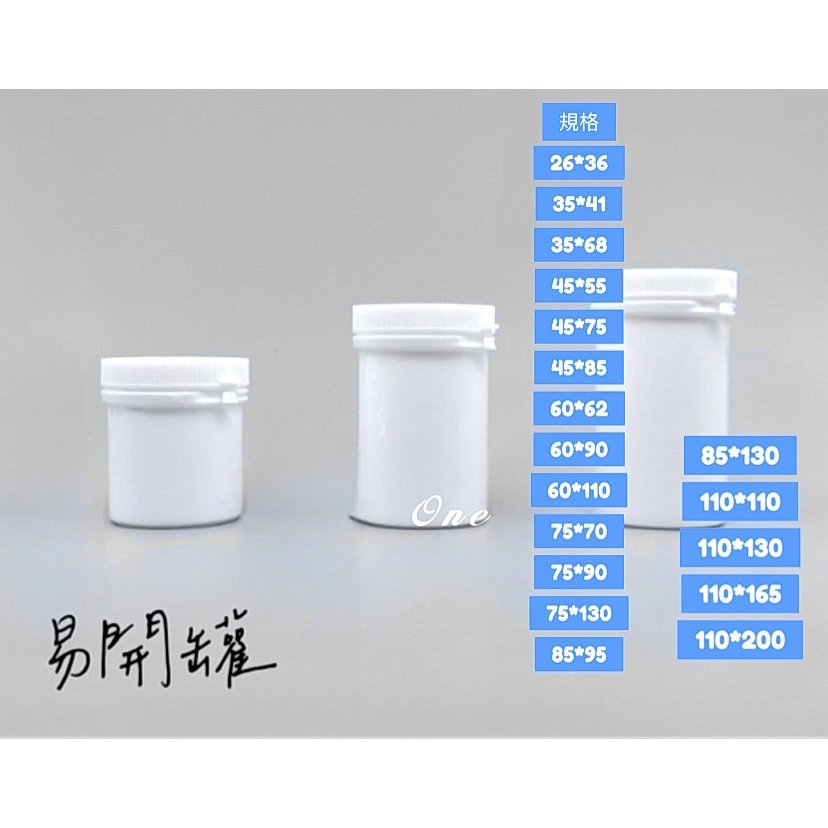medicinejar: (600, 271, 743, 542), (347, 302, 493, 528), (89, 345, 259, 536)
